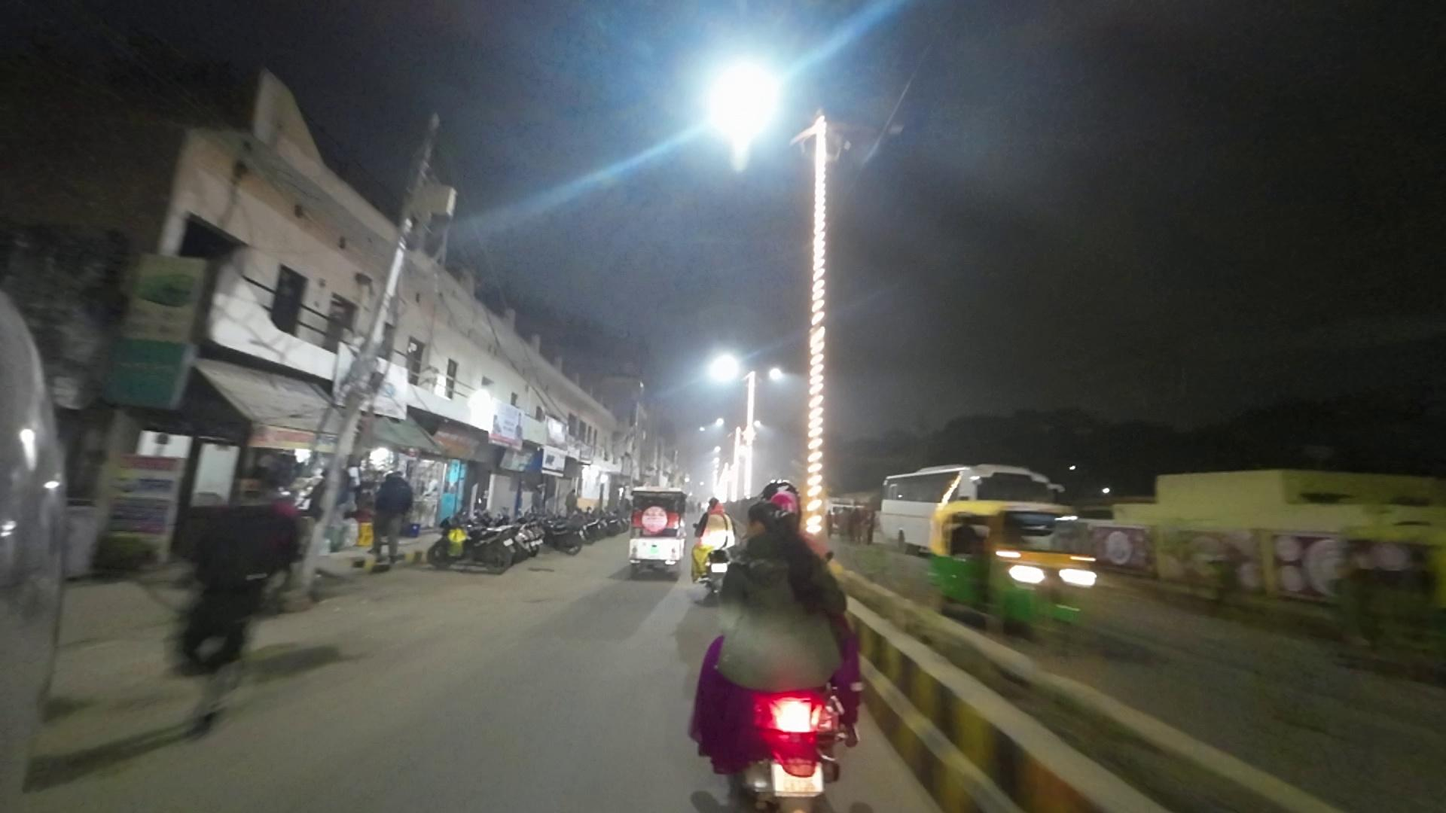streetlight: (835, 116, 908, 141)
